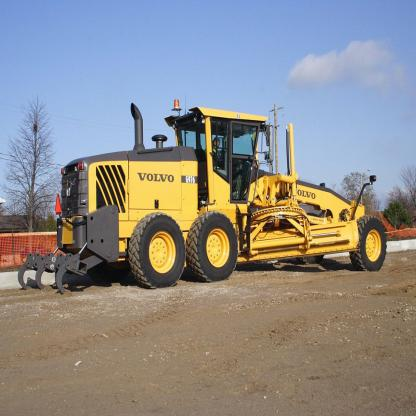bull_dozer/loader/grader: (47, 91, 400, 288)
